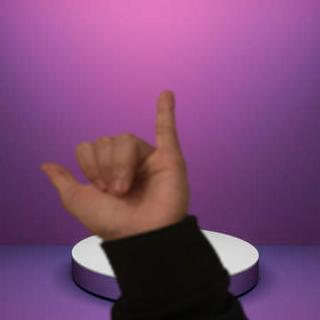HAVE: (35, 86, 188, 238)
